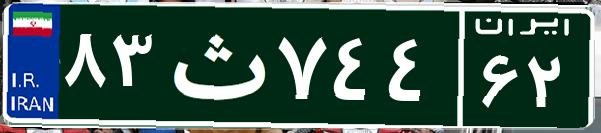2: (525, 38, 570, 115)
3: (110, 28, 158, 105)
4: (385, 28, 445, 110), (330, 28, 385, 110)
6: (475, 38, 525, 113)
7: (273, 28, 330, 110)
8: (57, 26, 110, 107)
ث: (158, 15, 273, 115)
